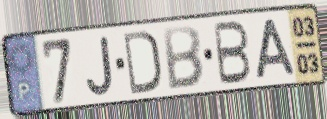7: (40, 37, 73, 106)
A: (253, 17, 298, 81)
B: (161, 25, 205, 92), (212, 20, 253, 88)
D: (121, 28, 163, 97)
J: (84, 34, 116, 97)
